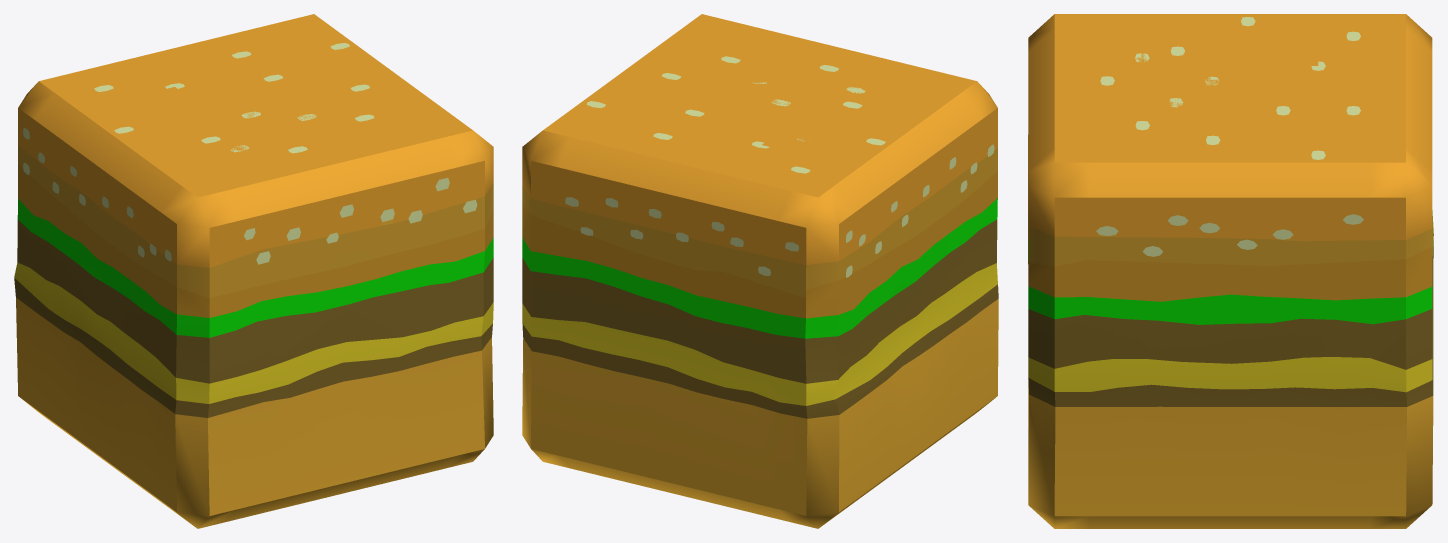
File: SM_Burger2.fbx
The picture shows the model from 3 angles, left to right: view 1: azimuth 30°, elevation 25°; view 2: azimuth 150°, elevation 25°; view 3: azimuth 270°, elevation 25°; orthographic projection. The views are drawn at different scales.
Parts seen in each view (by area): view 1: BasicSmoothCube; view 2: BasicSmoothCube; view 3: BasicSmoothCube.
Part boxes in pixels (x1,y1,x2,y2): BasicSmoothCube: [14, 14, 493, 528]; BasicSmoothCube: [522, 14, 998, 528]; BasicSmoothCube: [1028, 14, 1433, 528].
Size of the model in its own units: 201 by 200 by 201.
